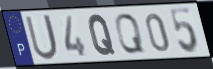0: (143, 12, 172, 53)
4: (62, 14, 88, 58)
5: (168, 6, 200, 55)
Q: (113, 12, 146, 56), (87, 13, 117, 57)
U: (23, 13, 60, 62)
